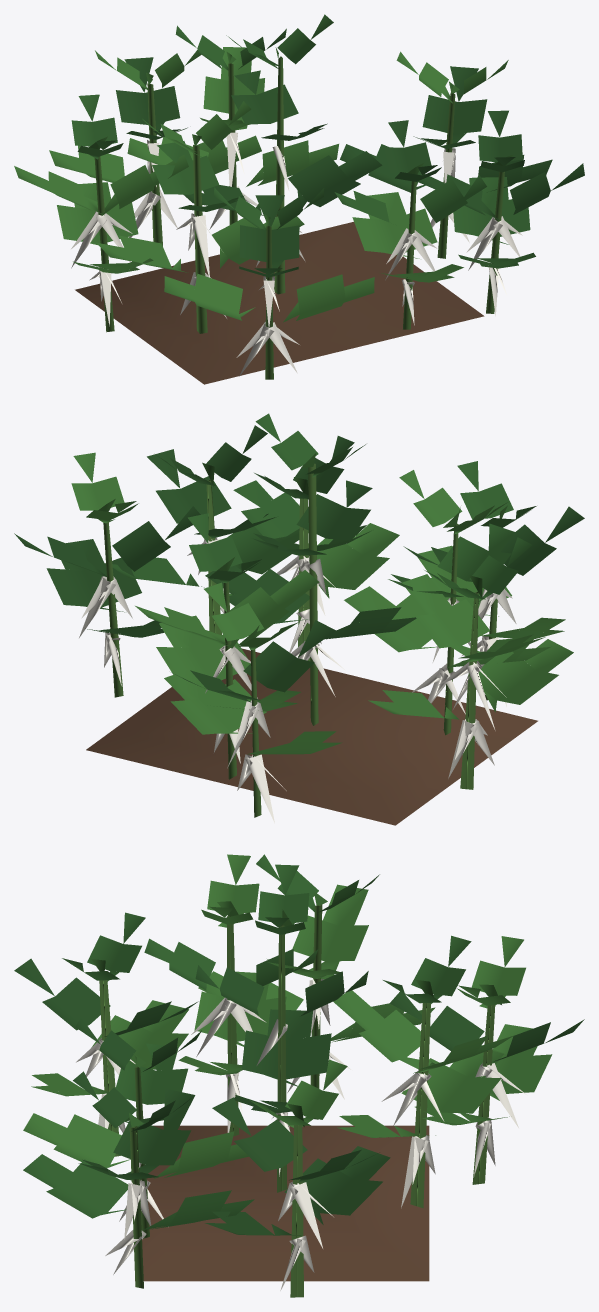
File: nettle-patch-blocky_lod1.glb
The picture shows the model from 3 angles, top to bottom: view 1: azimuth 30°, elevation 25°; view 2: azimuth 150°, elevation 25°; view 3: azimuth 270°, elevation 25°; orthographic projection. The views are drawn at different scales.
Visible parts, largest first — view 1: nettle-patch; view 2: nettle-patch; view 3: nettle-patch.
Boxes of the visible parts, x1,y1,x2,y2 form: nettle-patch: (14,14,584,384); nettle-patch: (14,413,584,825); nettle-patch: (14,854,584,1297).
Size of the model in its own units: 1.18 by 0.6308 by 1.04.
